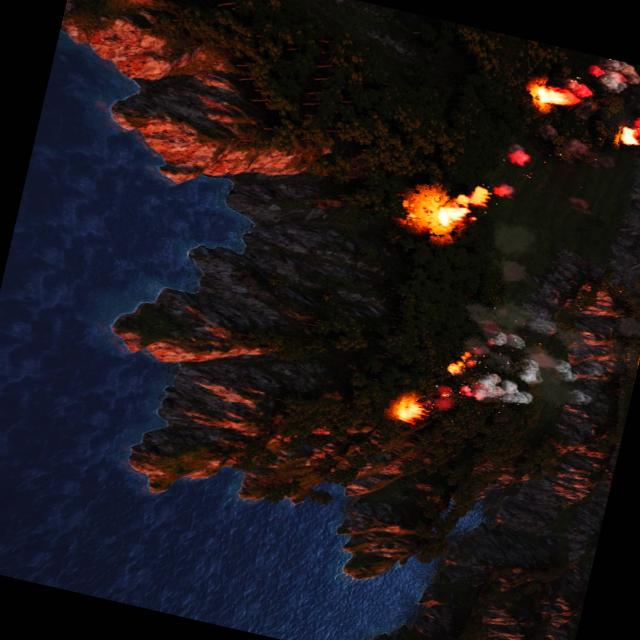fire: (400, 174, 490, 246), (527, 78, 578, 115), (389, 392, 426, 426), (444, 344, 478, 380), (615, 109, 640, 152), (498, 143, 534, 171), (489, 178, 516, 197)
smoke: (453, 294, 594, 423), (579, 53, 640, 111)
